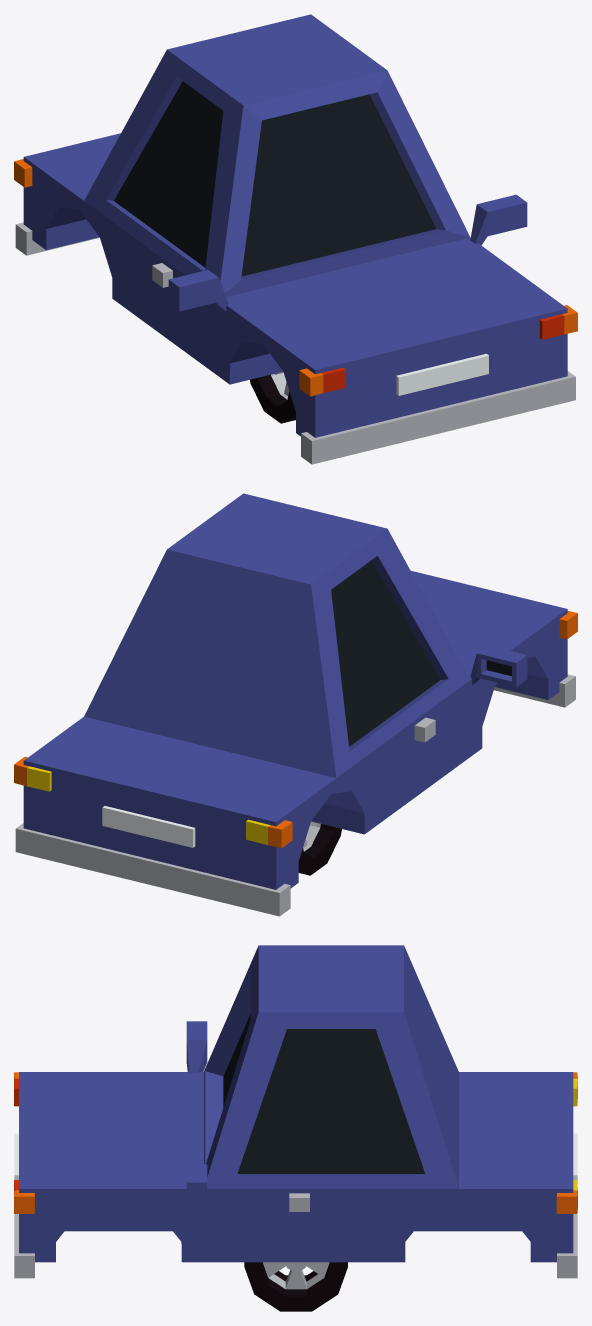
The model's file is 10 cars.fbx.
3 renders of one model, top to bottom at view 1: azimuth 30°, elevation 25°; view 2: azimuth 150°, elevation 25°; view 3: azimuth 270°, elevation 25°, orthographic. The views are drawn at different scales.
Parts seen in each view (by area): view 1: Cube, Wheel; view 2: Cube, Wheel; view 3: Cube, Wheel.
Part boxes in pixels (<box>): Cube: <box>14,14,577,464</box>; Wheel: <box>250,371,295,423</box>; Cube: <box>14,493,577,916</box>; Wheel: <box>298,821,341,875</box>; Cube: <box>14,945,577,1278</box>; Wheel: <box>244,1262,347,1311</box>.
Size of the model in its own units: 2.76 by 2.56 by 4.07.
